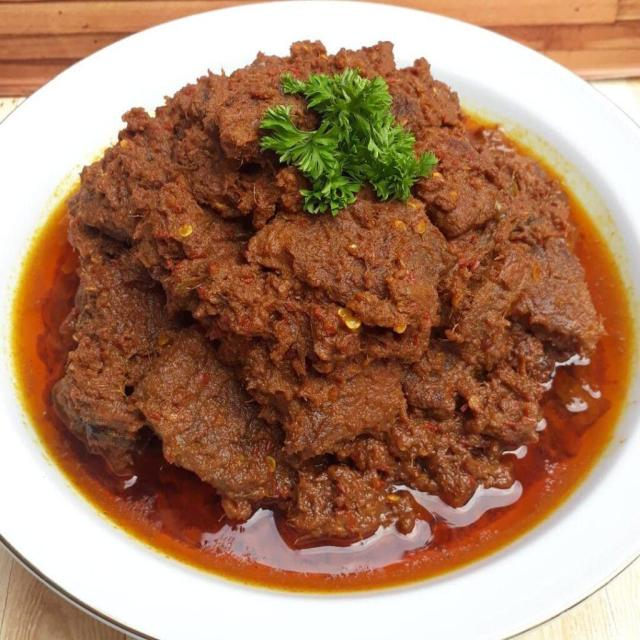Rendang: (48, 30, 612, 548)
